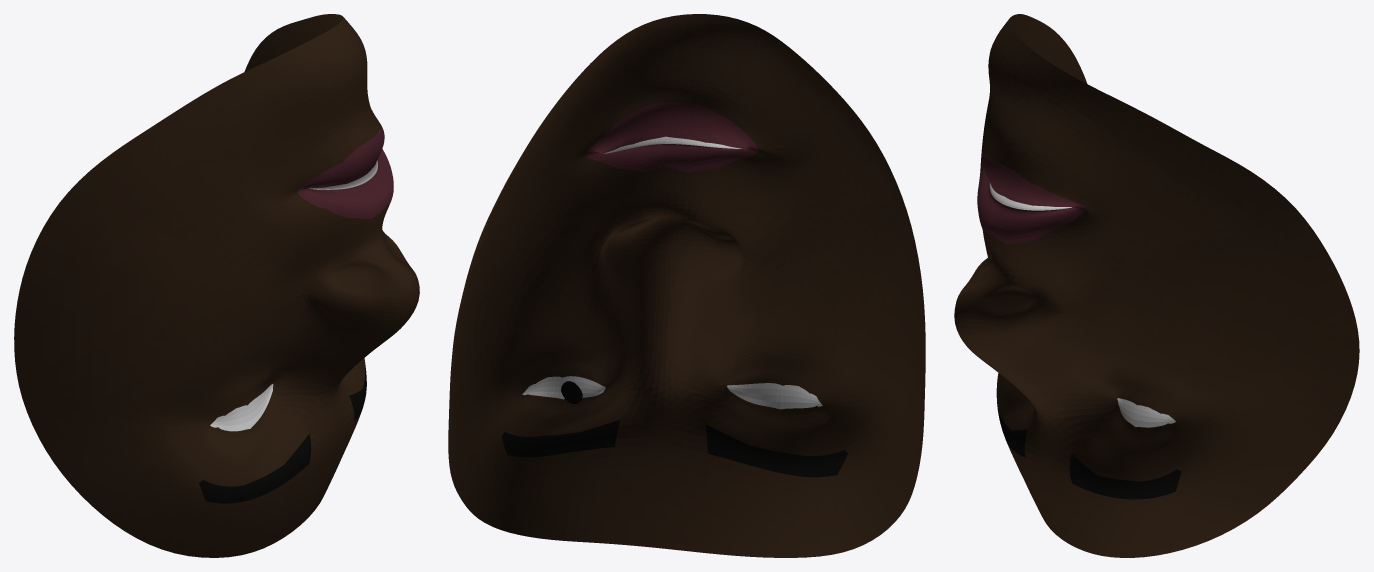
Rendered from IMG_0279.obj.
The picture shows the model from 3 angles, left to right: view 1: azimuth 30°, elevation 25°; view 2: azimuth 150°, elevation 25°; view 3: azimuth 270°, elevation 25°; orthographic projection. The views are drawn at different scales.
Parts seen in each view (by area): view 1: face_mesh_subdivided; view 2: face_mesh_subdivided; view 3: face_mesh_subdivided.
Part boxes in pixels (box(x1,y1,x2,y2)): face_mesh_subdivided: box(14, 14, 419, 557); face_mesh_subdivided: box(448, 14, 925, 557); face_mesh_subdivided: box(954, 14, 1359, 557).
Bounding box in the file's own units: 0.6269 × 0.8013 × 0.5828.
